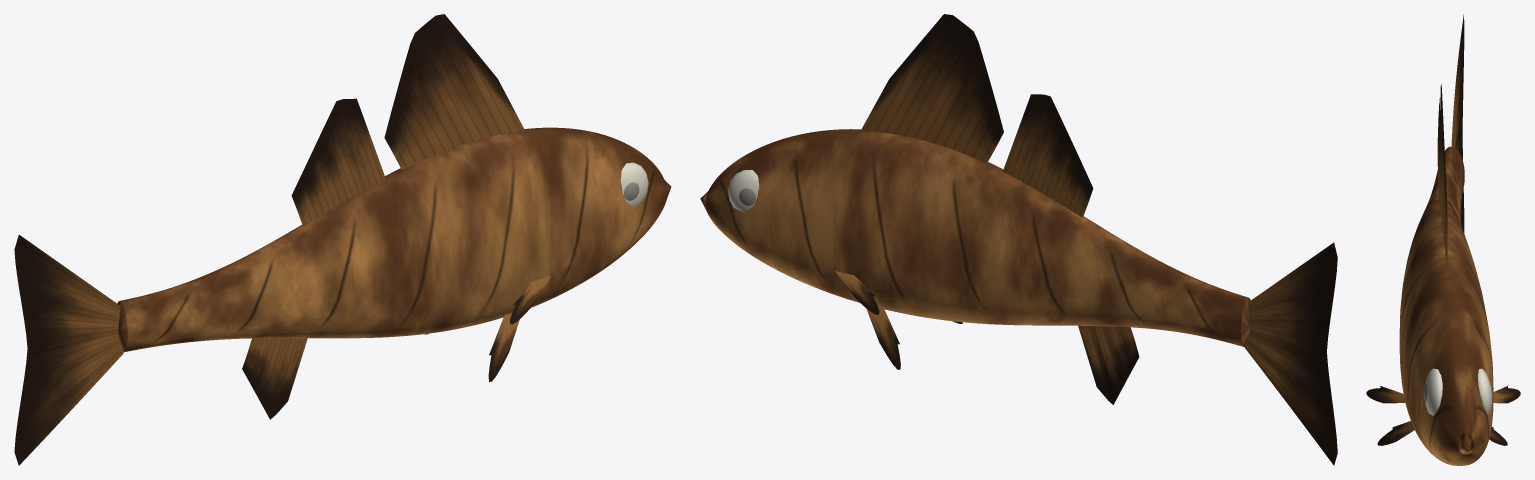
Rendered from fish_perch_cooked.gltf.
3 views of the same model, side by side, from view 1: azimuth 30°, elevation 25°; view 2: azimuth 150°, elevation 25°; view 3: azimuth 270°, elevation 25° (orthographic). The views are drawn at different scales.
Parts seen in each view (by area): view 1: fish_perch_cooked; view 2: fish_perch_cooked; view 3: fish_perch_cooked.
Part boxes in pixels (x1,y1,x2,y2): fish_perch_cooked: (14,14,671,465); fish_perch_cooked: (700,14,1337,465); fish_perch_cooked: (1366,14,1520,465).
Bounding box in the file's own units: 0.247 × 0.1303 × 0.0501.
7 materials, 5 textured.
